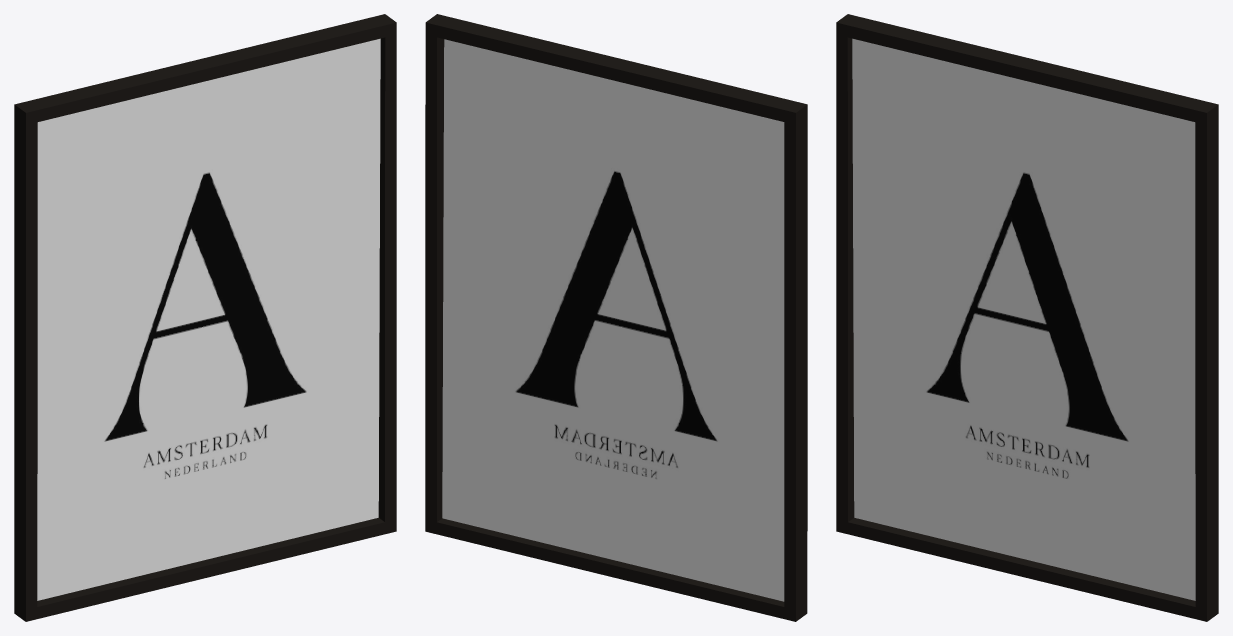
Rendered from P655215_Amsterdam_30x40_WEBB.glb.
3 views of the same model, side by side, from view 1: azimuth 30°, elevation 25°; view 2: azimuth 150°, elevation 25°; view 3: azimuth 330°, elevation 25° (orthographic).
Parts seen in each view (by area): view 1: P655208_vintervass_30x40_WEBB, Frame2; view 2: P655208_vintervass_30x40_WEBB, Frame2; view 3: P655208_vintervass_30x40_WEBB, Frame2.
Boxes of the visible parts, bbox=[...] form: P655208_vintervass_30x40_WEBB: bbox=[37, 38, 380, 600]; Frame2: bbox=[14, 14, 396, 621]; P655208_vintervass_30x40_WEBB: bbox=[442, 39, 784, 601]; Frame2: bbox=[425, 14, 807, 621]; P655208_vintervass_30x40_WEBB: bbox=[852, 38, 1195, 600]; Frame2: bbox=[836, 14, 1218, 621].
Size of the model in its own units: 0.2576 by 0.3381 by 0.0143.
Materials: 2 (2 with a texture image).
